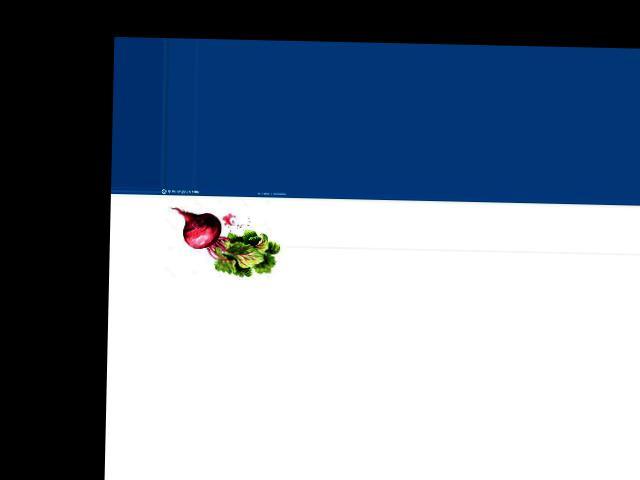beet: (170, 207, 281, 277)
